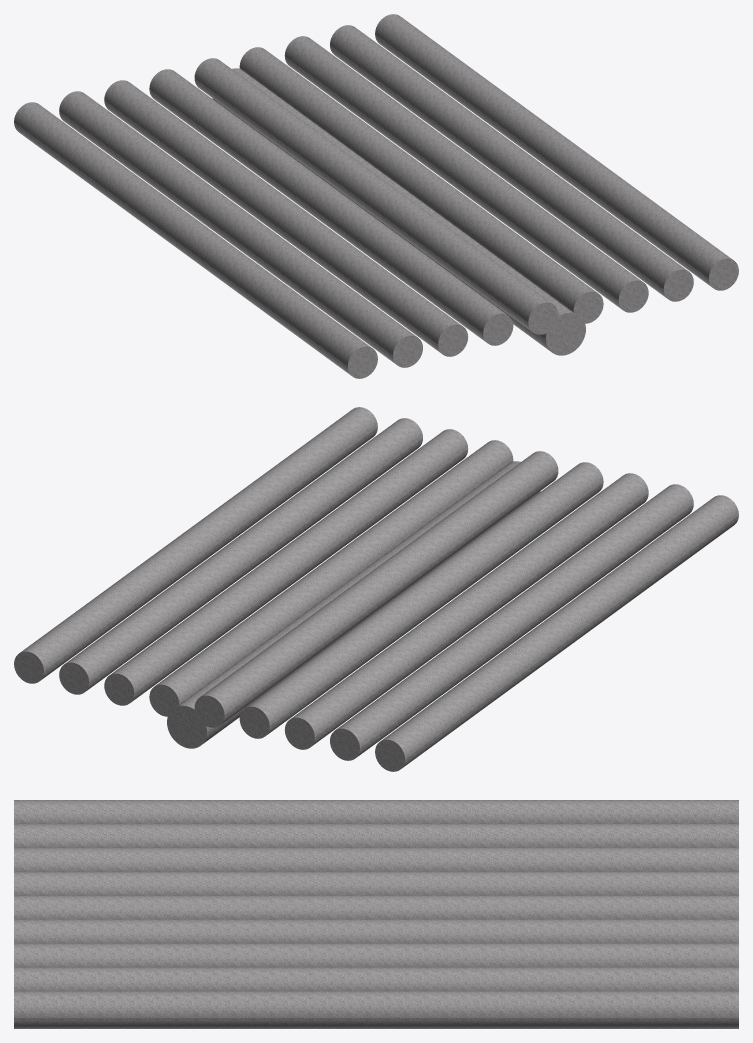
3 views of the same model, one above another, from view 1: azimuth 30°, elevation 25°; view 2: azimuth 150°, elevation 25°; view 3: azimuth 270°, elevation 25° (orthographic). The views are drawn at different scales.
Parts seen in each view (by area): view 1: 0_2_0_3_0_0_0; view 2: 0_2_0_3_0_0_0; view 3: 0_2_0_3_0_0_0.
Part boxes in pixels (left/top/right/bottom): 0_2_0_3_0_0_0: left=14, top=14, right=738, bottom=378; 0_2_0_3_0_0_0: left=14, top=407, right=738, bottom=771; 0_2_0_3_0_0_0: left=14, top=800, right=738, bottom=1028.
Size of the model in its own units: 7.8 by 1.1 by 11.53.
10 materials, 10 textured.
